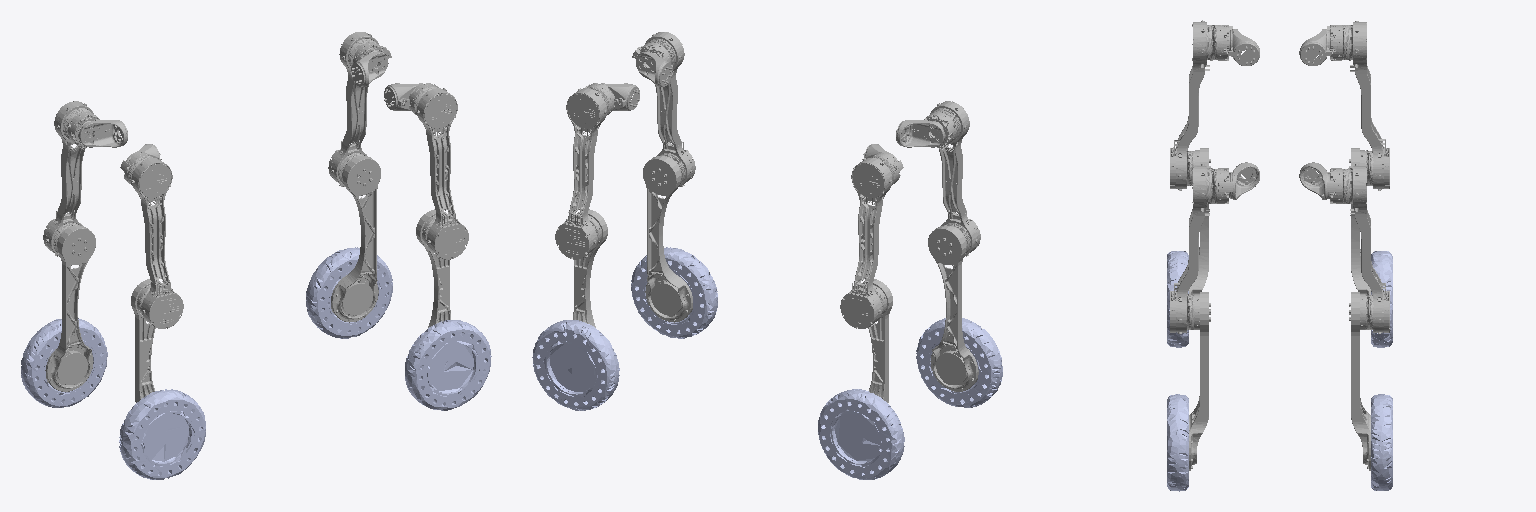
robot.urdf — pcb:
<?xml version="1.0" encoding="utf-8"?>
<!-- This URDF was automatically created by SolidWorks to URDF Exporter! Originally created by Stephen Brawner (brawner@gmail.com) 
     Commit Version: 1.6.0-4-g7f85cfe  Build Version: 1.6.7995.38578
     For more information, please see http://wiki.ros.org/sw_urdf_exporter -->
<robot name="pcb">
  <!-- <mujoco>
        <compiler 
        angle="radian"
        meshdir="meshes/" 
        balanceinertia="true" 
        discardvisual="false" />
  </mujoco> -->
    <link name="world"></link>
  <joint name="floating_base_joint" type="floating">
    <parent link="world"/>
    <child link="base"/>
  </joint>
  <link name="base">
    <inertial>
      <origin xyz="0.015546 -0.000356 -0.002522" rpy="0 0 0" />
      <mass value="11.714" />
      <inertia ixx="0.080386100" ixy="0.000372957" ixz="-0.006899500" iyy="0.302915285" iyz="0.000215670" izz="0.353776337" />
    </inertial>
    <visual>
      <origin xyz="0 0 0" rpy="0 0 0" />
      <geometry>
        <mesh filename="meshes/base.STL" />
      </geometry>
      <material name="">
        <color rgba="0.752941176470588 0.752941176470588 0.752941176470588 1" />
      </material>
    </visual>
    <collision>
      <origin xyz="0 0 0" rpy="0 0 0" />
      <geometry>
        <box size="0.46 0.2 0.13" />
      </geometry>
    </collision>
  </link>
  <joint name="imu_joint" type="fixed">
    <parent link="base"/>
    <child link="imu_link"/>
    <origin rpy="0 0 0" xyz="0 0 0"/>
  </joint>
  <link name="imu_link">
    <inertial>
      <mass value="0.001"/>
      <origin rpy="0 0 0" xyz="0 0 0"/>
      <inertia ixx="0.0001" ixy="0" ixz="0" iyy="0.0001" iyz="0" izz="0.0001"/>
    </inertial>
    <visual>
      <origin rpy="0 0 0" xyz="0 0 0"/>
      <geometry>
        <box size="0.001 0.001 0.001"/>
      </geometry>
    </visual>
    <collision>
      <origin rpy="0 0 0" xyz="0 0 0"/>
      <geometry>
        <box size=".001 .001 .001"/>
      </geometry>
    </collision>
  </link>
  <link name="FL_hip">
    <inertial>
      <origin xyz="0.02644 0.013950 0.000001" rpy="0 0 0" />
      <mass value=" 0.093" />
      <inertia ixx="0.000040414" ixy="-0.000019029" ixz="0.000000001" iyy="0.000071294" iyz="0.000000000" izz="0.000067176" />
    </inertial>
    <visual>
      <origin xyz="0 0 0" rpy="0 0 0" />
      <geometry>
        <mesh filename="meshes/FL_hip.STL" />
      </geometry>
      <material name="">
        <color rgba="0.752941176470588 0.752941176470588 0.752941176470588 1" />
      </material>
    </visual>
    <collision>
      <origin xyz="0.05 0.065 0" rpy="1.570796326794897 0 0" />
      <geometry>
        <cylinder radius="0.036" length="0.068" />
      </geometry>
    </collision>
  </link>
  <joint name="FL_hip_joint" type="revolute">
    <origin xyz="0.25555 0.06 0" rpy="0 0 0" />
    <parent link="base" />
    <child link="FL_hip" />
    <axis xyz="1 0 0" />
    <limit lower="-0.61056" upper="0.52333" effort="30" velocity="12.6" />
  </joint>
  <link name="FL_thigh">
    <inertial>
      <origin xyz=" 0.000123 0.056481 -0.124234" rpy="0 0 0" />
      <mass value="1.461" />
      <inertia ixx="0.022683810" ixy="0.000009631" ixz="-0.000024660" iyy="0.022099520" iyz="0.003455675" izz="0.001429847" />
    </inertial>
    <visual>
      <origin xyz="0 0 0" rpy="0 0 0" />
      <geometry>
        <mesh filename="meshes/FL_thigh.STL" />
      </geometry>
      <material name="">
        <color rgba="0.752941176470588 0.752941176470588 0.752941176470588 1" />
      </material>
    </visual>
    <collision>
      <origin xyz="0 0.065 -0.1065" rpy="0.15 0 0.0" />
      <geometry>
        <box size="0.034 0.0245  0.253 " />
      </geometry>
    </collision>
  </link>
  <joint name="FL_thigh_joint" type="revolute">
    <origin xyz="0.05075 0.0298 0" rpy="0 0 0" />
    <parent link="FL_hip" />
    <child link="FL_thigh" />
    <axis xyz="0 1 0" />
    <limit lower="-2.3791" upper="3.1641" effort="45" velocity="12" />
  </joint>
  <link name="FL_calf">
    <inertial>
      <origin xyz="0.001423 0.040745 -0.221672" rpy="0 0 0" />
      <mass value="0.905" />
      <inertia ixx="0.008020317" ixy="0.000041545" ixz="-0.000117383" iyy="0.009110185" iyz="0.001263761" izz="0.001924021" />
    </inertial>
    <visual>
      <origin xyz="0 0 0" rpy="0 0 0" />
      <geometry>
        <mesh filename="meshes/FL_calf.STL" />
      </geometry>
      <material name="">
        <color rgba="0.752941176470588 0.752941176470588 0.752941176470588 1" />
      </material>
    </visual>
    <collision>
        <origin xyz="0.008 0.006 -0.12" rpy="1.570796326794897 0 0" />
        <geometry>
           <box size="0.036 0.24 0.02" />
        </geometry>
      </collision>
      <collision>
        <origin xyz="0.0 0.033 0" rpy="1.570796326794897 0 0" />
        <geometry>
          <cylinder radius="0.036" length="0.072" />
        </geometry>
    </collision>
  </link>
  <joint name="FL_calf_joint" type="revolute">
    <origin xyz="0 0.0408 -0.25" rpy="0 0 0" />
    <parent link="FL_thigh" />
    <child link="FL_calf" />
    <axis xyz="0 1 0" />
    <limit lower="-2.8609" upper="2.8609" effort="45" velocity="12" />
  </joint>
  <link name="FL_foot">
    <inertial>
      <origin xyz="0.000004 -0.006349  0.000010" rpy="0 0 0" />
      <mass value="0.400" />
      <inertia ixx="0.001420971" ixy="0.000000007" ixz="-0.000000224" iyy="0.002707982" iyz="0.000000001" izz="0.001420609" />
    </inertial>
    <visual>
      <origin xyz="0 0 0" rpy="0 0 0" />
      <geometry>
        <mesh filename="meshes/FL_foot.STL" />
      </geometry>
      <material name="">
        <color rgba="0.792156862745098 0.819607843137255 0.933333333333333 1" />
      </material>
    </visual>
    <collision>
      <origin xyz="0 0 0" rpy="0 0 0" />
      <geometry>
        <mesh filename="meshes/FL_foot.STL" />
      </geometry>
    </collision>
  </link>
  <joint name="FL_foot_joint" type="fixed">
    <origin xyz="0 0.0598 -0.26" rpy="0 0 0" />
    <parent link="FL_calf" />
    <child link="FL_foot" />
    <axis xyz="0 1 0" />
    <limit lower="-99999" upper="99999" effort="30" velocity="20" />

  </joint>
  <link name="FR_hip">
    <inertial>
      <origin xyz="0.026440 -0.013950 -0.000001" rpy="0 0 0" />
      <mass value="0.093" />
      <inertia ixx="0.000040414" ixy="0.000019029" ixz="-0.000000001" iyy="0.000071294" iyz="0.000000000" izz="0.000067176" />
    </inertial>
    <visual>
      <origin xyz="0 0 0" rpy="0 0 0" />
      <geometry>
        <mesh filename="meshes/FR_hip.STL" />
      </geometry>
      <material name="">
        <color rgba="0.752941176470588 0.752941176470588 0.752941176470588 1" />
      </material>
    </visual>
    <collision>
      <origin xyz="0.05 -0.065 0" rpy="1.570796326794897 0 0" />
      <geometry>
        <cylinder radius="0.036" length="0.068" />
      </geometry>
    </collision>
  </link>
  <joint name="FR_hip_joint" type="revolute">
    <origin xyz="0.25555 -0.06 0" rpy="0 0 0" />
    <parent link="base" />
    <child link="FR_hip" />
    <axis xyz="1 0 0" />
    <limit lower="-0.61056" upper="0.52333" effort="30" velocity="12.6" />
  </joint>
  <link name="FR_thigh">
    <inertial>
      <origin xyz="0.000149 -0.056439 -0.124111" rpy="0 0 0" />
      <mass value="1.459" />
      <inertia ixx="0.022664789" ixy="-0.000008421" ixz="-0.000021626" iyy="0.022081868" iyz="-0.003449870" izz="0.001427262" />
    </inertial>
    <visual>
      <origin xyz="0 0 0" rpy="0 0 0" />
      <geometry>
        <mesh filename="meshes/FR_thigh.STL" />
      </geometry>
      <material name="">
        <color rgba="0.752941176470588 0.752941176470588 0.752941176470588 1" />
      </material>
    </visual>
    <collision>
      <origin xyz="0 -0.065 -0.1065" rpy="-0.15 0 0" />
      <geometry>
         <box size="0.034 0.0245  0.253 " />
      </geometry>
    </collision>
  </link>
  <joint name="FR_thigh_joint" type="revolute">
    <origin xyz="0.05075 -0.0298 0" rpy="0 0 0" />
    <parent link="FR_hip" />
    <child link="FR_thigh" />
    <axis xyz="0 1 0" />
    <limit lower="-2.3791" upper="3.1641" effort="45" velocity="12" />
  </joint>
  <link name="FR_calf">
    <inertial>
      <origin xyz="0.001389 -0.040744 -0.221655" rpy="0 0 0" />
      <mass value="0.905" />
      <inertia ixx="0.008019448" ixy="-0.000041298" ixz="-0.000119255" iyy="0.009109919" iyz="-0.001263976" izz="0.001924687" />
    </inertial>
    <visual>
      <origin xyz="0 0 0" rpy="0 0 0" />
      <geometry>
        <mesh filename="meshes/FR_calf.STL" />
      </geometry>
      <material name="">
        <color rgba="0.752941176470588 0.752941176470588 0.752941176470588 1" />
      </material>
    </visual>
    <collision>
      <origin xyz="0.008 -0.006 -0.12" rpy="1.570796326794897 0 0" />
      <geometry>
        <box size="0.036 0.24 0.02" />
      </geometry>
    </collision>
    <collision>
      <origin xyz="0.0 -0.033 0" rpy="1.570796326794897 0 0" />
      <geometry>
        <cylinder radius="0.036" length="0.072" />
      </geometry>
    </collision>
  </link>
  <joint name="FR_calf_joint" type="revolute">
    <origin xyz="0 -0.0408 -0.25" rpy="0 0 0" />
    <parent link="FR_thigh" />
    <child link="FR_calf" />
    <axis xyz="0 1 0" />
    <limit lower="-2.8609" upper="2.8609" effort="45" velocity="12" />
  </joint>
  <link name="FR_foot">
    <inertial>
      <origin xyz="0.000010 0.006349 -0.000004" rpy="0 0 0" />
      <mass value="0.400" />
      <inertia ixx="0.001420562" ixy="-0.000000006" ixz="0.000000176" iyy="0.002707982" iyz="-0.000000005" izz="0.001421019" />
    </inertial>
    <visual>
      <origin xyz="0 0 0" rpy="0 0 0" />
      <geometry>
        <mesh filename="meshes/FR_foot.STL" />
      </geometry>
      <material name="">
        <color rgba="0.792156862745098 0.819607843137255 0.933333333333333 1" />
      </material>
    </visual>
    <collision>
      <origin xyz="0 0 0" rpy="0 0 0" />
      <geometry>
        <mesh filename="meshes/FR_foot.STL" />
      </geometry>
    </collision>
  </link>
  <joint name="FR_foot_joint" type="fixed">
    <origin xyz="0 -0.0598 -0.26" rpy="0 0 0" />
    <parent link="FR_calf" />
    <child link="FR_foot" />
    <axis xyz="0 1 0" />
    <limit lower="-99999" upper="99999" effort="30" velocity="20" />
  </joint>
  <link name="RL_hip">
    <inertial>
      <origin xyz="-0.026440 0.013950 -0.000001" rpy="0 0 0" />
      <mass value="0.093" />
      <inertia ixx="0.000040414" ixy="0.000019029" ixz="0.000000001" iyy="0.000071294" iyz="0.000000000" izz="0.000067176" />
    </inertial>
    <visual>
      <origin xyz="0 0 0" rpy="0 0 0" />
      <geometry>
        <mesh filename="meshes/RL_hip.STL" />
      </geometry>
      <material name="">
        <color rgba="0.752941176470588 0.752941176470588 0.752941176470588 1" />
      </material>
    </visual>
    <collision>
        <origin xyz="-0.05 0.065 0" rpy="1.570796326794897 0 0" />
      <geometry>
        <cylinder radius="0.036" length="0.068" />
      </geometry>
    </collision>
  </link>
  <joint name="RL_hip_joint" type="revolute">
    <origin xyz="-0.25555 0.06 0" rpy="0 0 0" />
    <parent link="base" />
    <child link="RL_hip" />
    <axis xyz="1 0 0" />
    <limit lower="-0.61056" upper="0.52333" effort="30" velocity="12.6" />
  </joint>
  <link name="RL_thigh">
    <inertial>
      <origin xyz="-0.000126 0.056482 -0.124234" rpy="0 0 0" />
      <mass value="1.461" />
      <inertia ixx="0.022683927" ixy="-0.000009539" ixz="0.000024810" iyy="0.022099519" iyz="0.003455835" izz="0.001429963" />
    </inertial>
    <visual>
      <origin xyz="0 0 0" rpy="0 0 0" />
      <geometry>
        <mesh filename="meshes/RL_thigh.STL" />
      </geometry>
      <material name="">
        <color rgba="0.752941176470588 0.752941176470588 0.752941176470588 1" />
      </material>
    </visual>
    <collision>
      <origin xyz="0 0.065 -0.1065" rpy="0.15 0 0" />
      <geometry>
         <box size="0.034 0.0245  0.253 " />
      </geometry>
    </collision>
  </link>
  <joint name="RL_thigh_joint" type="revolute">
    <origin xyz="-0.05075 0.0298 0" rpy="0 0 0" />
    <parent link="RL_hip" />
    <child link="RL_thigh" />
    <axis xyz="0 1 0" />
    <limit lower="-3.1641" upper="2.3791" effort="45" velocity="12" />
  </joint>
  <link name="RL_calf">
    <inertial>
      <origin xyz="-0.001398 0.040735 -0.221655" rpy="0 0 0" />
      <mass value="0.906" />
      <inertia ixx="0.008019636" ixy="-0.000041397" ixz="0.000119276" iyy="0.009110081" iyz="0.001263960" izz="0.001924934" />
    </inertial>
    <visual>
      <origin xyz="0 0 0" rpy="0 0 0" />
      <geometry>
        <mesh filename="meshes/RL_calf.STL" />
      </geometry>
      <material name="">
        <color rgba="0.752941176470588 0.752941176470588 0.752941176470588 1" />
      </material>
    </visual>
    <collision>
       <origin xyz="-0.008 0.006 -0.12" rpy="1.570796326794897 0 0" />
      <geometry>
        <box size="0.036 0.24 0.02" />
      </geometry>
    </collision>
    <collision>
      <origin xyz="0.0 0.033 0" rpy="1.570796326794897 0 0" />
      <geometry>
        <cylinder radius="0.036" length="0.072" />
      </geometry>
    </collision>
  </link>
  <joint name="RL_calf_joint" type="revolute">
    <origin xyz="0 0.0408 -0.25" rpy="0 0 0" />
    <parent link="RL_thigh" />
    <child link="RL_calf" />
    <axis xyz="0 1 0" />
    <limit lower="-2.8609" upper="2.8609" effort="45" velocity="12" />
  </joint>
  <link name="RL_foot">
    <inertial>
      <origin xyz="-0.000008 -0.006349 0.000007" rpy="0 0 0" />
      <mass value="0.400" />
      <inertia ixx="0.001420792" ixy="0.000000002" ixz="0.000000288" iyy="0.002707982" iyz="0.000000007" izz="0.001420788" />
    </inertial>
    <visual>
      <origin xyz="0 0 0" rpy="0 0 0" />
      <geometry>
        <mesh filename="meshes/RL_foot.STL" />
      </geometry>
      <material name="">
        <color rgba="0.792156862745098 0.819607843137255 0.933333333333333 1" />
      </material>
    </visual>
    <collision>
      <origin xyz="0 0 0" rpy="0 0 0" />
      <geometry>
        <mesh filename="meshes/RL_foot.STL" />
      </geometry>
    </collision>
  </link>
  <joint name="RL_foot_joint" type="fixed">
    <origin xyz="0 0.0598 -0.26" rpy="0 0 0" />
    <parent link="RL_calf" />
    <child link="RL_foot" />
    <axis xyz="0 1 0" />
    <limit lower="-99999" upper="99999" effort="30" velocity="20" />
  </joint>
  <link name="RR_hip">
    <inertial>
      <origin xyz="-0.026440 -0.013950 0.000001" rpy="0 0 0" />
      <mass value="0.093" />
      <inertia ixx="0.000040414" ixy="-0.000019029" ixz="-0.000000001" iyy="0.000071294" iyz="0.000000000" izz="0.000067176" />
    </inertial>
    <visual>
      <origin xyz="0 0 0" rpy="0 0 0" />
      <geometry>
        <mesh filename="meshes/RR_hip.STL" />
      </geometry>
      <material name="">
        <color rgba="0.752941176470588 0.752941176470588 0.752941176470588 1" />
      </material>
    </visual>
    <collision>
      <origin xyz="-0.05 -0.065 0" rpy="1.570796326794897 0 0" />
      <geometry>
        <cylinder radius="0.036" length="0.068" />
      </geometry>
    </collision>
  </link>
  <joint name="RR_hip_joint" type="revolute">
    <origin xyz="-0.25555 -0.06 0" rpy="0 0 0" />
    <parent link="base" />
    <child link="RR_hip" />
    <axis xyz="1 0 0" />
    <limit lower="-0.61056" upper="0.52333" effort="30" velocity="12.6" />
  </joint>
  <link name="RR_thigh">
    <inertial>
      <origin xyz="-0.000124 -0.056481 -0.124236" rpy="0 0 0" />
      <mass value="1.461" />
      <inertia ixx="0.022683020" ixy="0.000009615" ixz="0.000024940" iyy="0.022098669" iyz="-0.003455703" izz="0.001429786" />
    </inertial>
    <visual>
      <origin xyz="0 0 0" rpy="0 0 0" />
      <geometry>
        <mesh filename="meshes/RR_thigh.STL" />
      </geometry>
      <material name="">
        <color rgba="0.752941176470588 0.752941176470588 0.752941176470588 1" />
      </material>
    </visual>
    <collision>
      <origin xyz="0 -0.065 -0.1065" rpy="-0.15 0 0" />
      <geometry>
         <box size="0.034 0.0245  0.253 " />
      </geometry>
    </collision>
  </link>
  <joint name="RR_thigh_joint" type="revolute">
    <origin xyz="-0.05075 -0.0298 0" rpy="0 0 0" />
    <parent link="RR_hip" />
    <child link="RR_thigh" />
    <axis xyz="0 1 0" />
    <limit lower="-3.1641" upper="2.3791" effort="45" velocity="12" />
  </joint>
  <link name="RR_calf">
    <inertial>
      <origin xyz="-0.001423 -0.040745 -0.221672" rpy="0 0 0" />
      <mass value="0.905" />
      <inertia ixx="0.008020317" ixy="0.000041545" ixz="0.000117383" iyy="0.009110185" iyz="-0.001263761" izz="0.001924021" />
    </inertial>
    <visual>
      <origin xyz="0 0 0" rpy="0 0 0" />
      <geometry>
        <mesh filename="meshes/RR_calf.STL" />
      </geometry>
      <material name="">
        <color rgba="0.752941176470588 0.752941176470588 0.752941176470588 1" />
      </material>
    </visual>
    <collision>
       <origin xyz="-0.008 -0.006 -0.12" rpy="1.570796326794897 0 0" />
      <geometry>
        <box size="0.036 0.24 0.02" />
      </geometry>
    </collision>

    <collision>
      <origin xyz="0.0 -0.033 0" rpy="1.570796326794897 0 0" />
      <geometry>
        <cylinder radius="0.036" length="0.072" />
      </geometry>
    </collision>
  </link>
  <joint name="RR_calf_joint" type="revolute">
    <origin xyz="0 -0.0408 -0.25" rpy="0 0 0" />
    <parent link="RR_thigh" />
    <child link="RR_calf" />
    <axis xyz="0 1 0" />
    <limit lower="-2.8609" upper="2.8609" effort="45" velocity="12" />
  </joint>
  <link name="RR_foot">
    <inertial>
      <origin xyz="-0.000006 0.006349 -0.000009" rpy="0 0 0" />
      <mass value="0.400" />
      <inertia ixx="0.001420894" ixy="-0.000000003" ixz="-0.000000269" iyy="0.002707982" iyz="0.000000007" izz="0.001420687" />
    </inertial>
    <visual>
      <origin xyz="0 0 0" rpy="0 0 0" />
      <geometry>
        <mesh filename="meshes/RR_foot.STL" />
      </geometry>
      <material name="">
        <color rgba="0.792156862745098 0.819607843137255 0.933333333333333 1" />
      </material>
    </visual>
    <collision>
      <origin xyz="0 0 0" rpy="0 0 0" />
      <geometry>
        <mesh filename="meshes/RR_foot.STL" />
      </geometry>
    </collision>
  </link>
  <joint name="RR_foot_joint" type="fixed">
    <origin xyz="0 -0.0598 -0.26" rpy="0 0 0" />
    <parent link="RR_calf" />
    <child link="RR_foot" />
    <axis xyz="0 1 0" />
    <limit lower="-99999" upper="99999" effort="30" velocity="20" />
  </joint>
</robot>

--- Facts derived from the render (not from the file) ---
3 views of the same robot in one strip: view 1: azimuth 30°, elevation 25°; view 2: azimuth 150°, elevation 25°; view 3: azimuth 270°, elevation 25° (orthographic).
Robot: pcb — 19 links, 18 joints (12 revolute, 5 fixed, 1 floating); root link world; default pose: all joints at 0.
Visible links, largest first — view 1: RR_foot, FR_foot, RR_thigh, FR_thigh, FL_calf, RL_calf, FL_foot, RL_foot, RL_thigh, FL_thigh, RR_calf, FR_calf (+3 smaller); view 2: RL_foot, FL_foot, RL_thigh, FL_thigh, FR_calf, RR_calf, FR_foot, RR_foot, RR_thigh, FR_thigh, RL_calf, FL_calf (+3 smaller); view 3: FR_thigh, FL_thigh, RL_thigh, RR_thigh, FL_foot, FR_foot, FR_calf, FL_calf, RL_foot, RR_foot, RR_calf, RL_calf (+4 smaller).
Boxes of the visible links, left/top/right/bottom form: RR_foot: left=119, top=389, right=205, bottom=479; FR_foot: left=405, top=320, right=491, bottom=410; RR_thigh: left=120, top=152, right=183, bottom=328; FR_thigh: left=409, top=83, right=468, bottom=259; FL_calf: left=331, top=156, right=380, bottom=322; RL_calf: left=45, top=225, right=95, bottom=391; FL_foot: left=306, top=247, right=392, bottom=338; RL_foot: left=21, top=318, right=107, bottom=407; RL_thigh: left=43, top=101, right=99, bottom=256; FL_thigh: left=328, top=32, right=391, bottom=186; RR_calf: left=131, top=279, right=160, bottom=402; FR_calf: left=416, top=209, right=450, bottom=327; RL_foot: left=818, top=389, right=904, bottom=479; FL_foot: left=532, top=320, right=619, bottom=410; RL_thigh: left=840, top=152, right=903, bottom=328; FL_thigh: left=555, top=83, right=614, bottom=259; FR_calf: left=643, top=156, right=692, bottom=322; RR_calf: left=928, top=225, right=978, bottom=391; FR_foot: left=631, top=247, right=717, bottom=338; RR_foot: left=916, top=318, right=1002, bottom=407; RR_thigh: left=924, top=101, right=980, bottom=256; FR_thigh: left=632, top=32, right=695, bottom=186; RL_calf: left=863, top=279, right=892, bottom=402; FL_calf: left=573, top=209, right=607, bottom=327; FR_thigh: left=1170, top=164, right=1232, bottom=333; FL_thigh: left=1327, top=164, right=1389, bottom=333; RL_thigh: left=1327, top=21, right=1389, bottom=190; RR_thigh: left=1170, top=20, right=1232, bottom=190; FL_foot: left=1371, top=394, right=1392, bottom=490; FR_foot: left=1167, top=394, right=1188, bottom=491; FR_calf: left=1189, top=292, right=1210, bottom=470; FL_calf: left=1349, top=292, right=1370, bottom=470; RL_foot: left=1371, top=251, right=1392, bottom=347; RR_foot: left=1167, top=251, right=1188, bottom=347; RR_calf: left=1189, top=148, right=1210, bottom=294; RL_calf: left=1349, top=148, right=1370, bottom=294.
Size in the robot's own frame: 0.788 by 0.408 by 0.6349 metres.
16 mesh visuals loaded from 17 distinct referenced files (16 binary STL); not drawn: 1 (reference not matched to a file when rendering).
